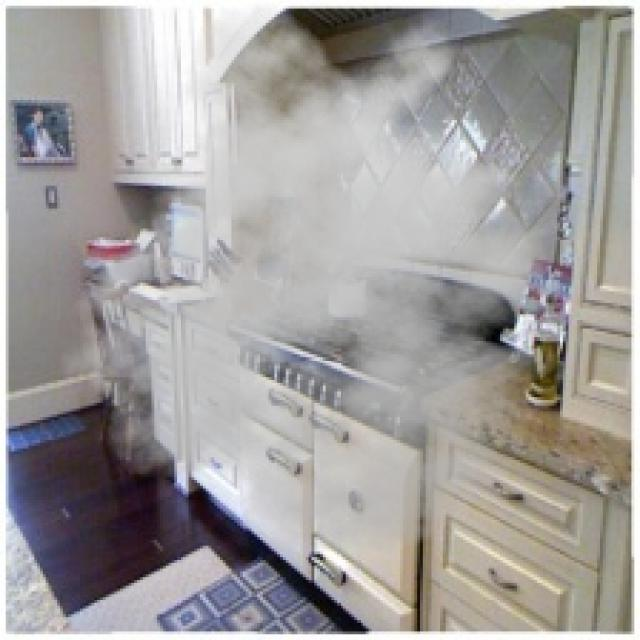smoke: (45, 0, 606, 555)
